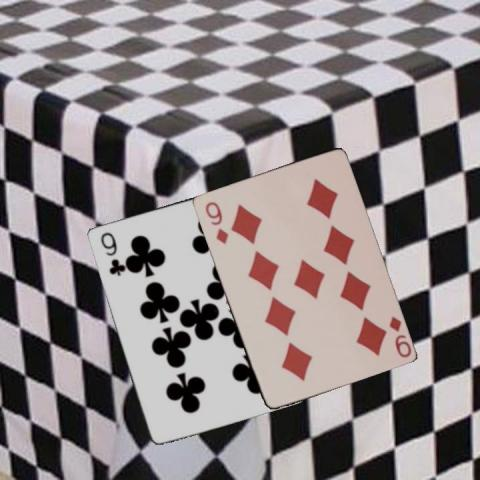9c: (97, 229, 123, 277)
9d: (202, 198, 230, 245), (385, 313, 412, 359)
